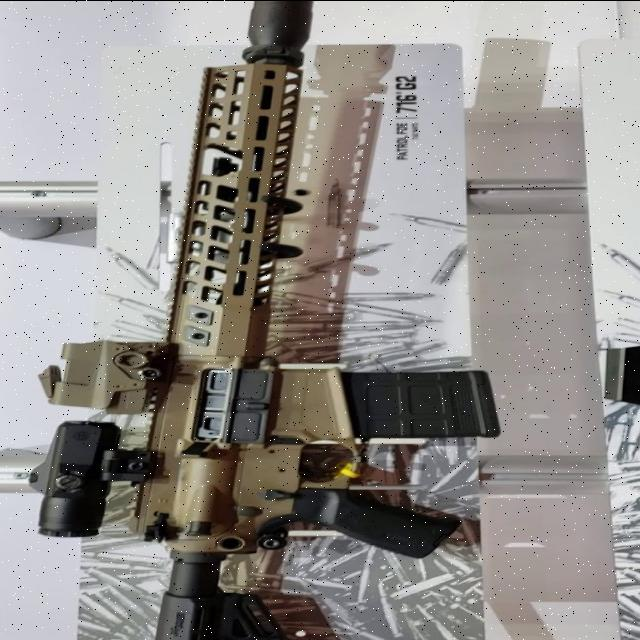Automaticrifle: (23, 7, 500, 639)
